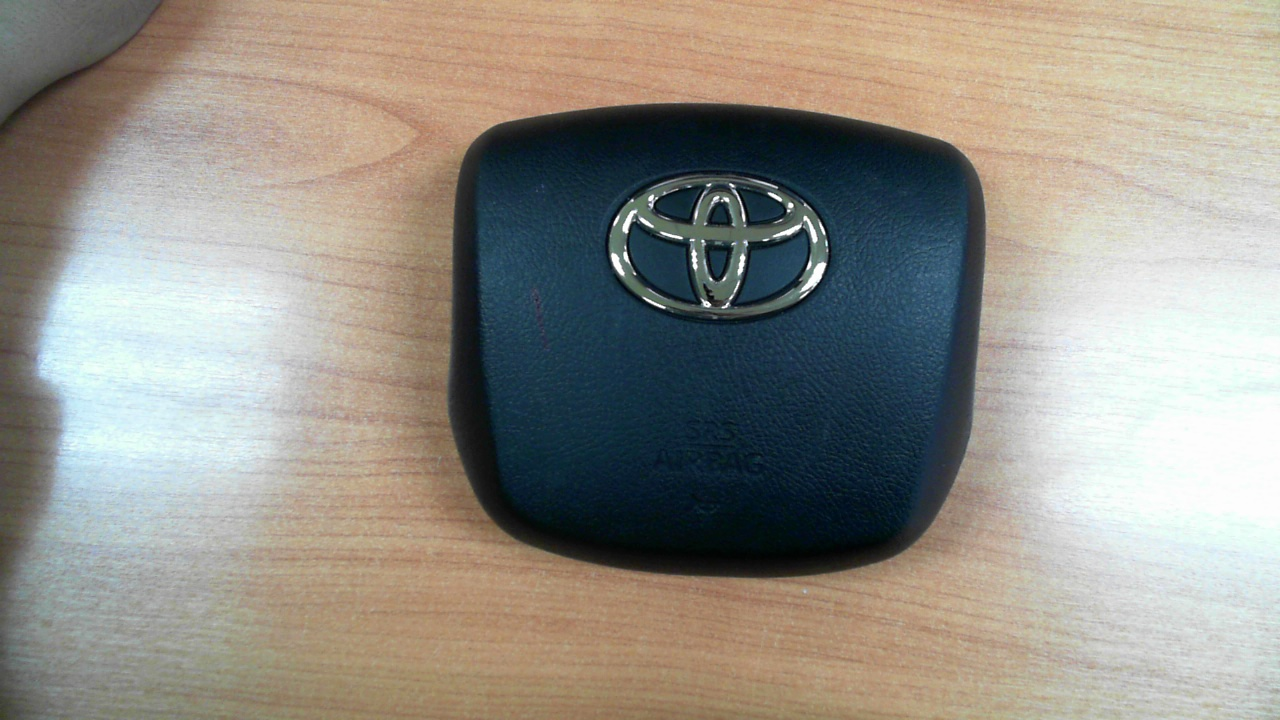Airbag: (448, 103, 986, 577)
Toyota: (603, 172, 828, 320)
